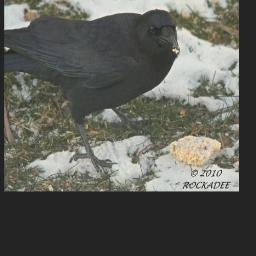Crow: (5, 8, 180, 173)
